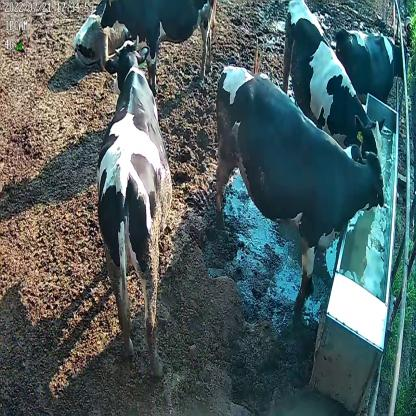cow: (211, 61, 385, 292), (94, 36, 174, 378), (280, 2, 386, 168), (99, 0, 221, 96), (332, 24, 408, 104)
